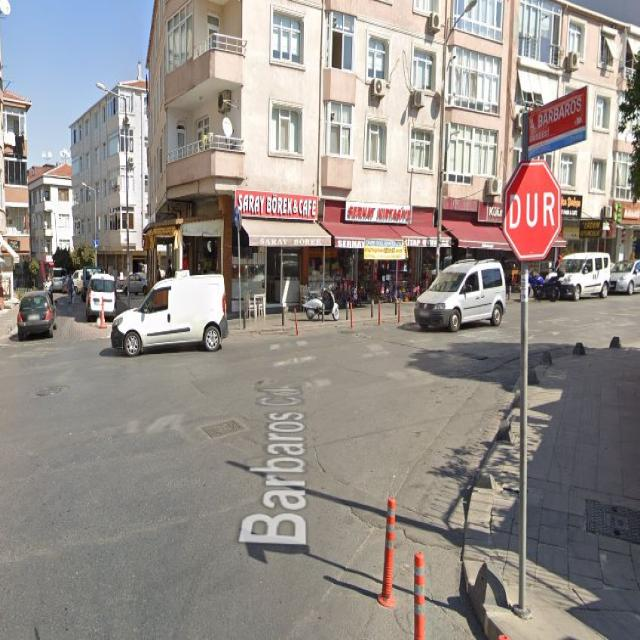dur: (503, 160, 562, 260)
